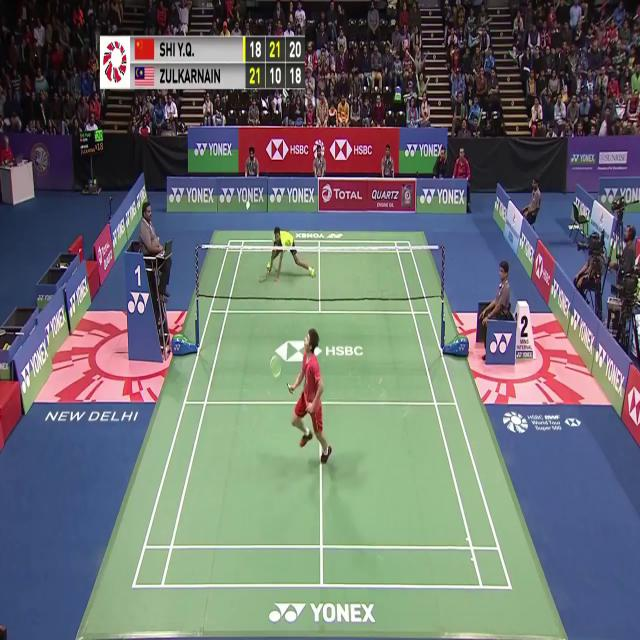Shuttlecock: (245, 200, 251, 211)
